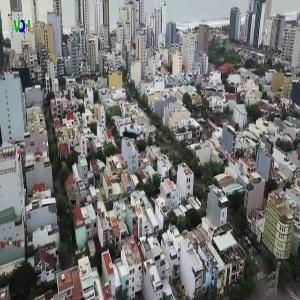drone: (113, 116, 150, 153)
